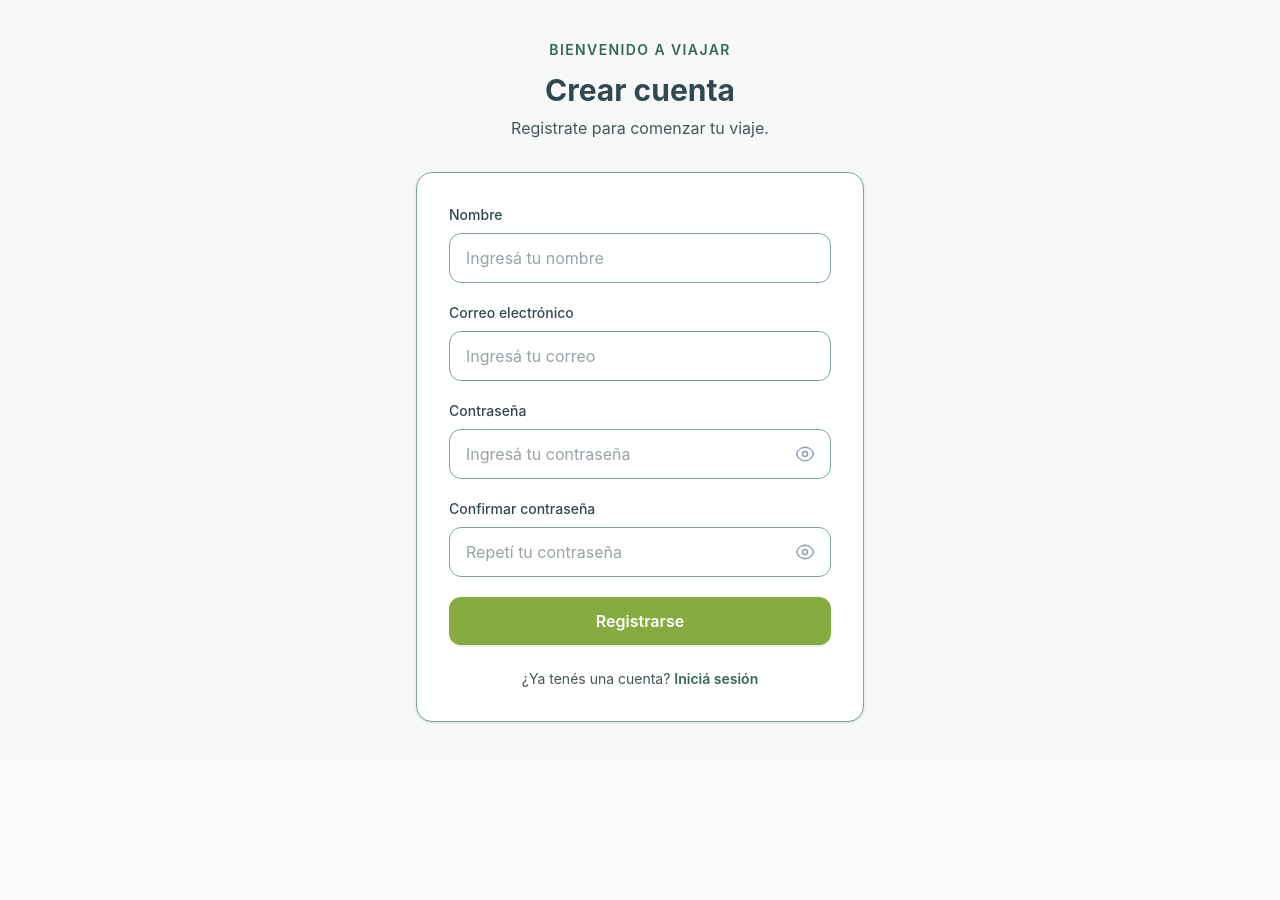
Test: Pruebas del registro › muestra error si el nombre tiene menos de 3 caracteres
This screenshot has width=1280, height=900.
Step 1. Type "Al" into the field with placeholder "Ingresá tu nombre" → (640, 258), box [449, 233, 831, 283]
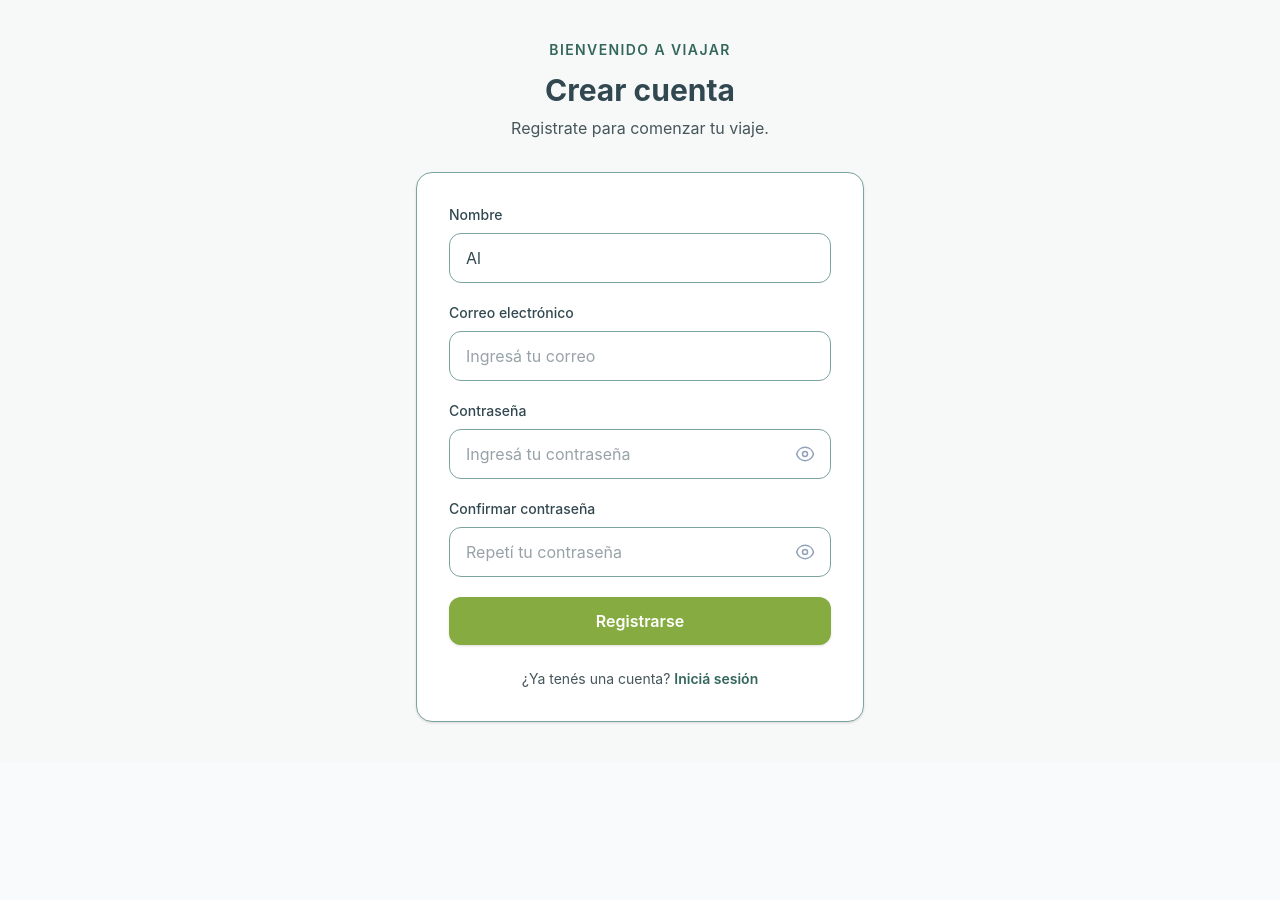
Step 2. Click the button "Registrarse" → (640, 621), box [449, 597, 831, 645]
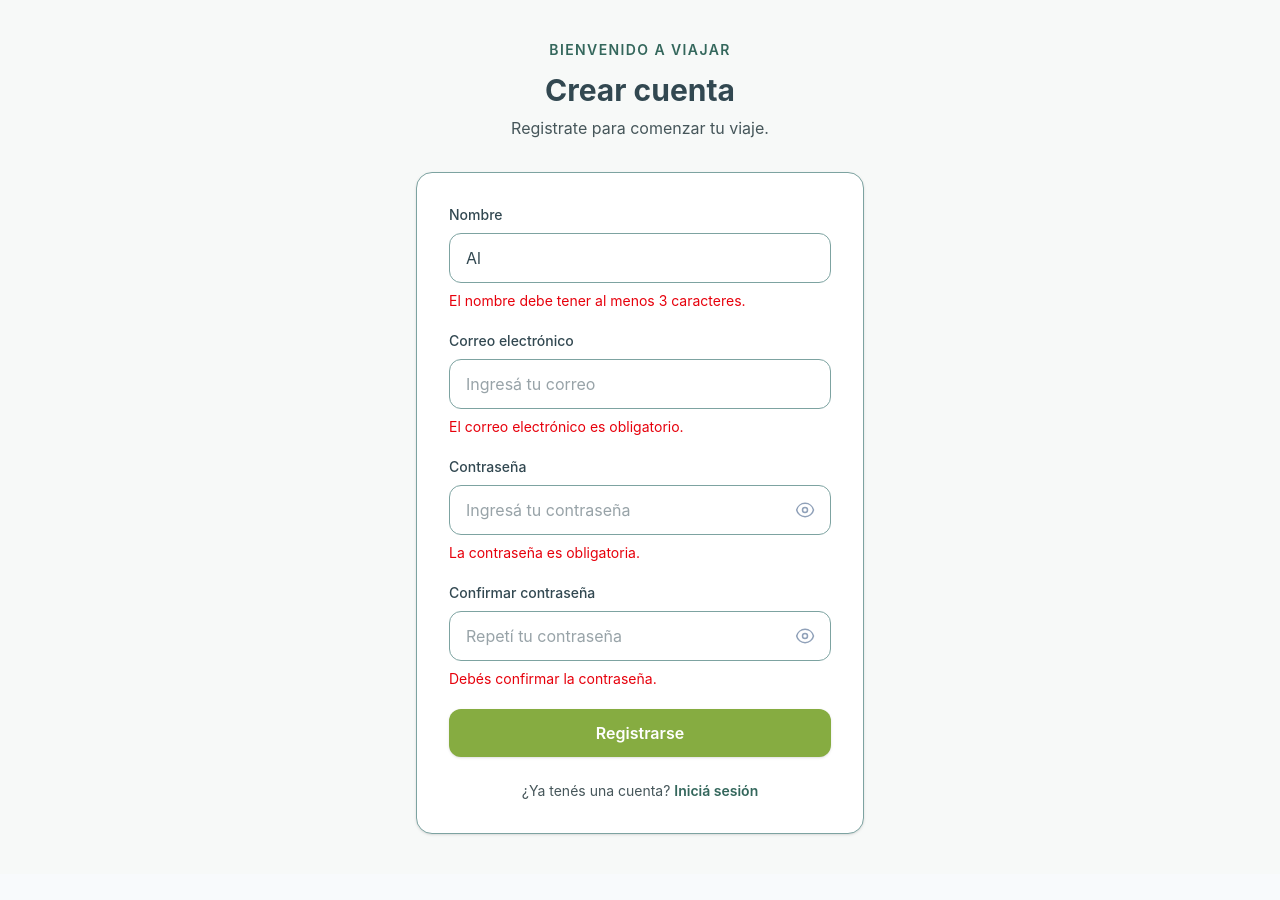
Expected: the text "El nombre debe tener al menos 3 caracteres." is shown, [449, 292, 746, 309]
